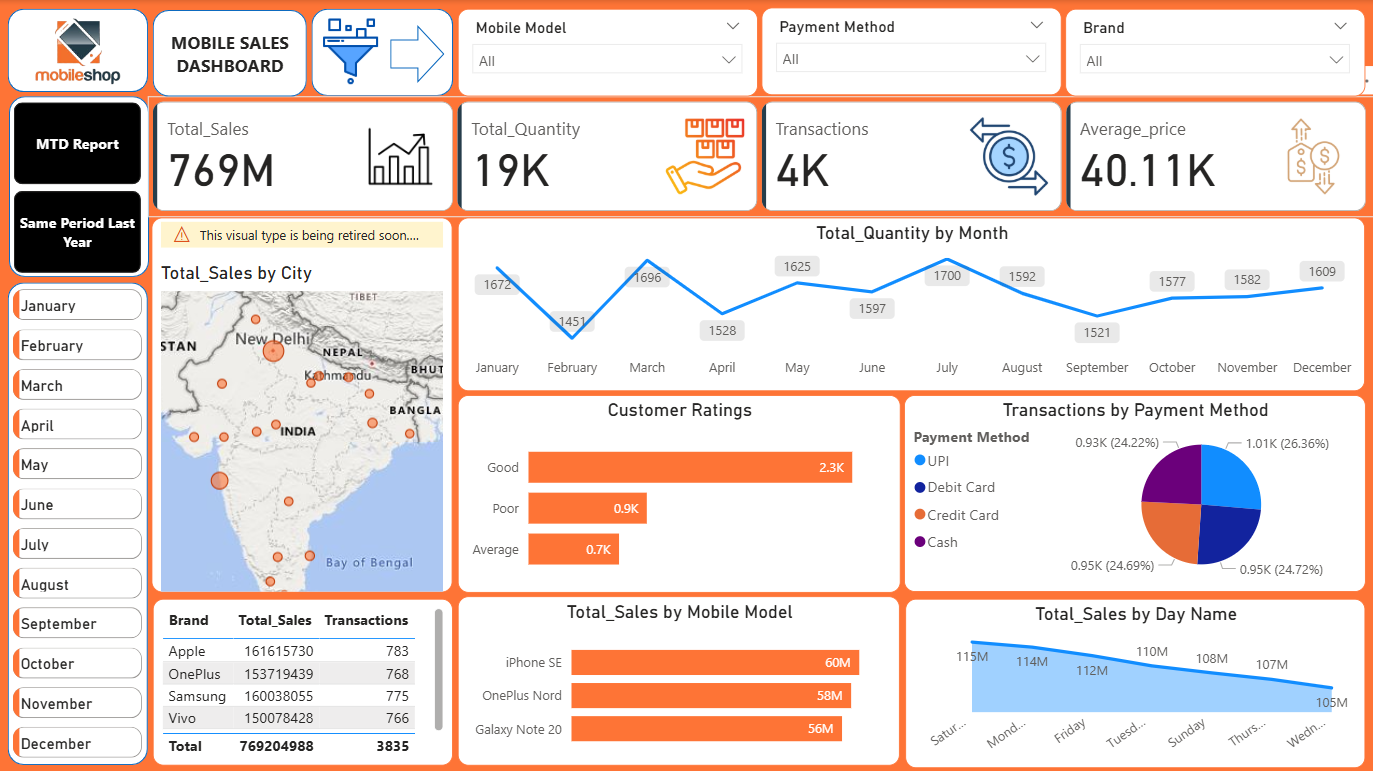

The page's visual inventory and layout, read from the dashboard file:
{"tool":"powerbi","page":{"name":"MS_Dashboard","canvas":[1280,720],"ordinal":0},"visuals":[{"type":"shape","box":[8.2,8.2,130.6,77.6],"z":0},{"type":"image","box":[9.6,9.6,128.5,76.8],"z":1000},{"type":"shape","box":[9.5,90,130.3,168.2],"z":2000},{"type":"shape","box":[8.3,262.9,130.3,448.9],"z":3000},{"type":"advancedSlicerVisual","fields":{"Values":["Custom_calender.Date.Variation.Date Hierarchy.Month"]},"box":[8.4,264.2,130.9,449.1],"z":4000},{"type":"cardVisual","fields":{"Data":["Sales_data.Total_Sales","Sales_data.Total_Quantity","Sales_data.Transactions","Sales_data.Average_price"]},"box":[138.4,89.5,1141.9,112.8],"z":5000},{"type":"slicer","fields":{"Values":["Sales_data.Mobile Model"]},"box":[426.5,7.6,278.8,81.8],"z":6000},{"type":"slicer","fields":{"Values":["Sales_data.Payment Method"]},"box":[709.4,7.1,278.8,81.8],"z":7000},{"type":"slicer","fields":{"Values":["Sales_data.Brand"]},"box":[992.4,8.2,278.8,81.8],"z":8000},{"type":"shape","box":[290.6,8.2,131.8,81.2],"z":9000},{"type":"image","box":[290.6,5.9,72.9,83.5],"z":10000},{"type":"shape","box":[363.8,22.8,50.4,54],"z":11000},{"type":"shape","box":[143.3,9.4,143.3,80.6],"z":12000},{"type":"textbox","box":[148.9,22.8,132.1,54],"z":13000},{"type":"map","fields":{"Category":["Sales_data.City"],"Size":["Sales_data.Total_Sales"]},"box":[141.9,202.3,280.2,348.8],"z":14000},{"type":"lineChart","fields":{"Category":["Custom_calender.Date.Variation.Date Hierarchy.Month"],"Y":["Sales_data.Total_Quantity"]},"box":[426.7,202.3,844.2,161.6],"z":15000},{"type":"barChart","title":"Customer Ratings","fields":{"Category":["Sales_data.Rating_status"],"Y":["CountNonNull(Sales_data.Customer Ratings)"]},"box":[426.7,367.4,411.6,183.7],"z":16000},{"type":"pieChart","title":"Transactions by Payment Method","fields":{"Y":["CountNonNull(Sales_data.Transaction ID)"],"Category":["Sales_data.Payment Method"]},"box":[842.3,367.9,429.5,183.3],"z":17000},{"type":"clusteredBarChart","fields":{"Category":["Sales_data.Mobile Model"],"Y":["Sales_data.Total_Sales"]},"box":[426.9,555.1,411.5,157.7],"z":18000},{"type":"areaChart","fields":{"Category":["Custom_calender.Day Name"],"Y":["Sales_data.Total_Sales"]},"box":[843.6,556.4,428.2,157.7],"z":19000},{"type":"tableEx","fields":{"Values":["Sales_data.Brand","Sales_data.Total_Sales","Sales_data.Transactions"]},"box":[143.6,556.4,279.5,155.1],"z":20000},{"type":"pageNavigator","box":[14.4,94.9,118.9,158.5],"z":21000}]}

Visuals, with their boxes in screenshot pixels (x1, y1, x2, y2), scaled from the page's 1280x720 canvas onto the 1373x771 screenshot:
shape: region(9, 9, 149, 92)
image: region(10, 10, 148, 93)
shape: region(10, 96, 150, 276)
shape: region(9, 282, 149, 762)
advancedSlicerVisual - Custom_calender.Date.Variation.Date Hierarchy.Month: region(9, 283, 149, 764)
cardVisual - Sales_data.Total_Sales x Sales_data.Total_Quantity: region(148, 96, 1372, 217)
slicer - Sales_data.Mobile Model: region(457, 8, 757, 96)
slicer - Sales_data.Payment Method: region(761, 8, 1060, 95)
slicer - Sales_data.Brand: region(1065, 9, 1364, 96)
shape: region(312, 9, 453, 96)
image: region(312, 6, 390, 96)
shape: region(390, 24, 444, 82)
shape: region(154, 10, 307, 96)
textbox: region(160, 24, 301, 82)
map - Sales_data.City x Sales_data.Total_Sales: region(152, 217, 453, 590)
lineChart - Custom_calender.Date.Variation.Date Hierarchy.Month x Sales_data.Total_Quantity: region(458, 217, 1363, 390)
"Customer Ratings" barChart: region(458, 393, 899, 590)
"Transactions by Payment Method" pieChart: region(903, 394, 1364, 590)
clusteredBarChart - Sales_data.Mobile Model x Sales_data.Total_Sales: region(458, 594, 899, 763)
areaChart - Custom_calender.Day Name x Sales_data.Total_Sales: region(905, 596, 1364, 765)
tableEx - Sales_data.Brand x Sales_data.Total_Sales: region(154, 596, 454, 762)
pageNavigator: region(15, 102, 143, 271)
